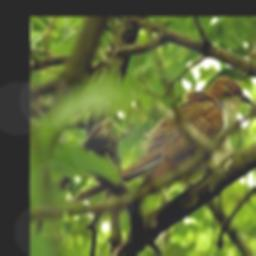Cuckoo: (69, 73, 255, 206)
